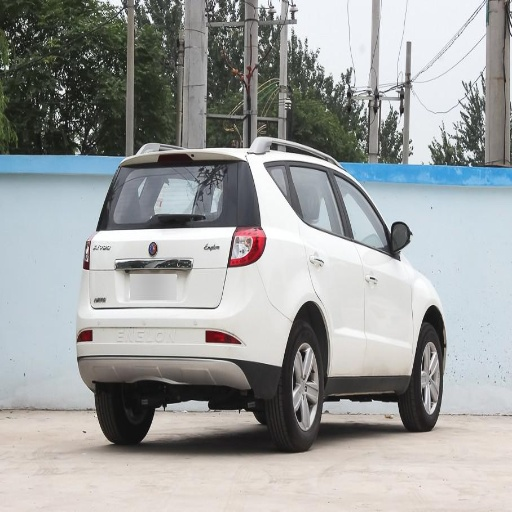back_bumper: (75, 263, 293, 396)
back_right_door: (289, 160, 362, 375)
trunk: (83, 229, 234, 326)
